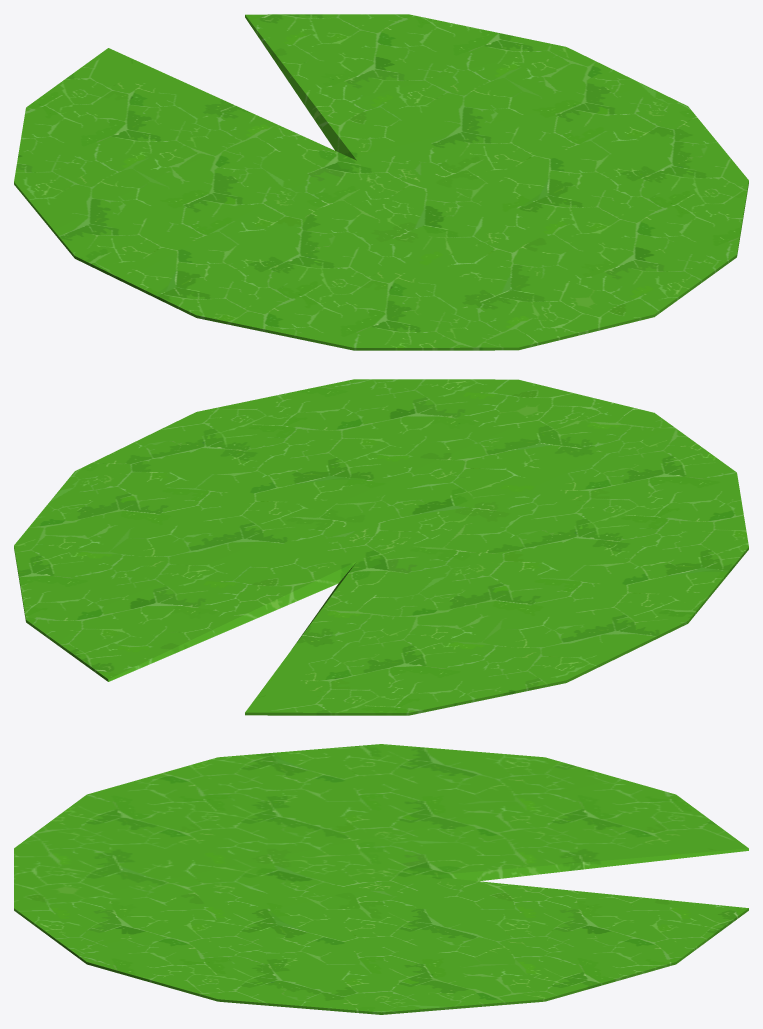
Rendered from lillypad01.fbx.
The picture shows the model from 3 angles, top to bottom: view 1: azimuth 30°, elevation 25°; view 2: azimuth 150°, elevation 25°; view 3: azimuth 270°, elevation 25°; orthographic projection. The views are drawn at different scales.
Parts seen in each view (by area): view 1: pCylinder1; view 2: pCylinder1; view 3: pCylinder1.
Part boxes in pixels (x1,y1,x2,y2): pCylinder1: (14,14,748,350); pCylinder1: (14,379,748,715); pCylinder1: (14,744,748,1014).
Bounding box in the file's own units: 16.42 × 0.217 × 18.99.
1 material, 1 textured.
